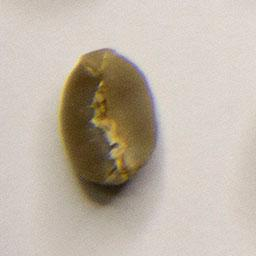premium: (56, 45, 161, 192)
